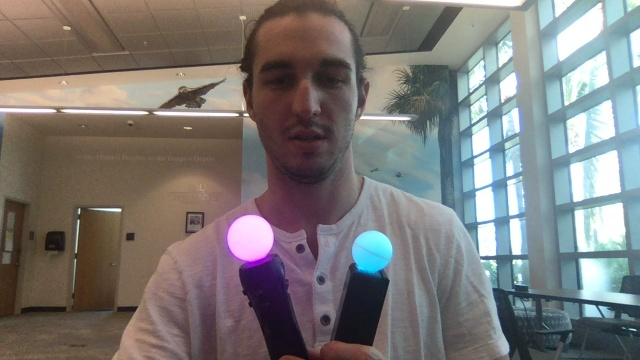wand: (228, 216, 274, 261), (352, 231, 393, 271)
